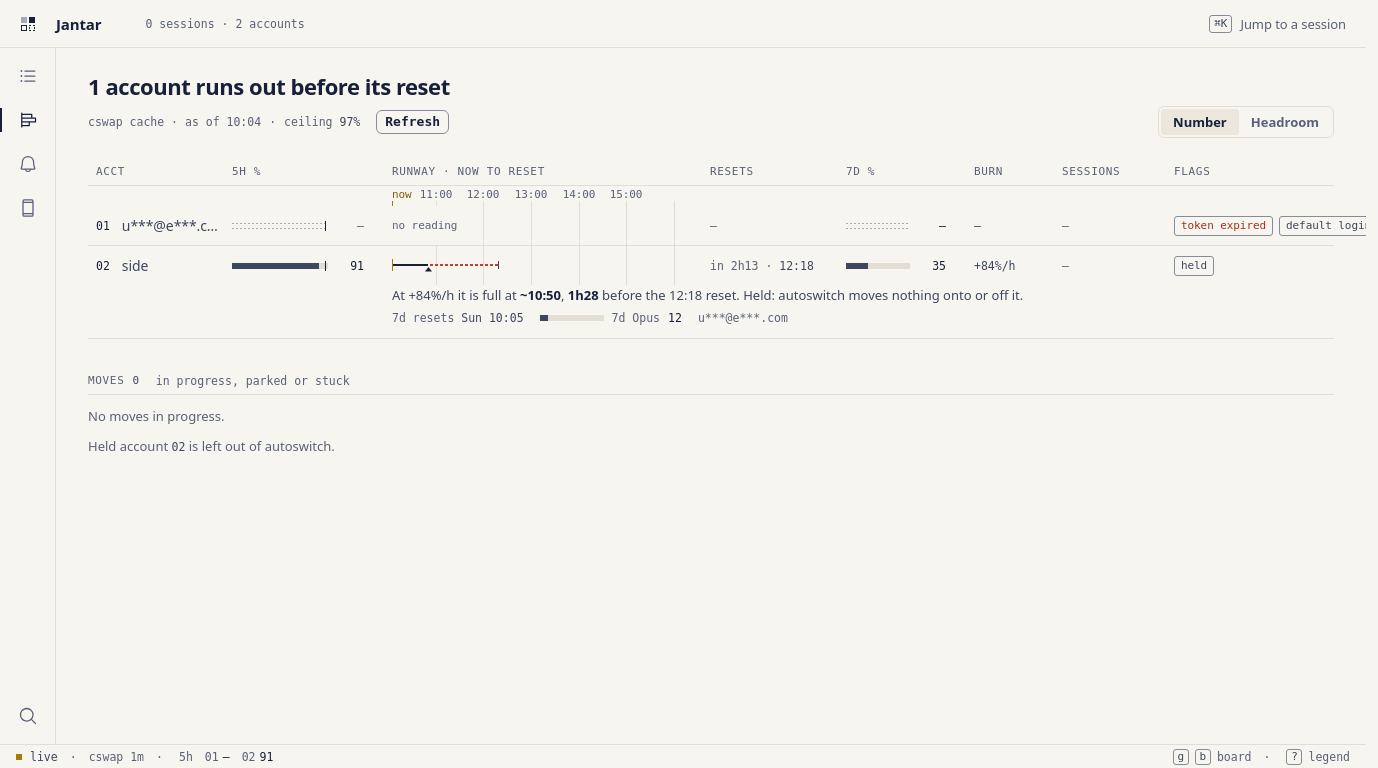
Test: accounts screen (phone) › asks for a usage refresh and shows a failure inline
The width and height of the screenshot is (1378, 768).
Step 1. Click the button "Refresh" → [413, 122], box [376,110,449,134]
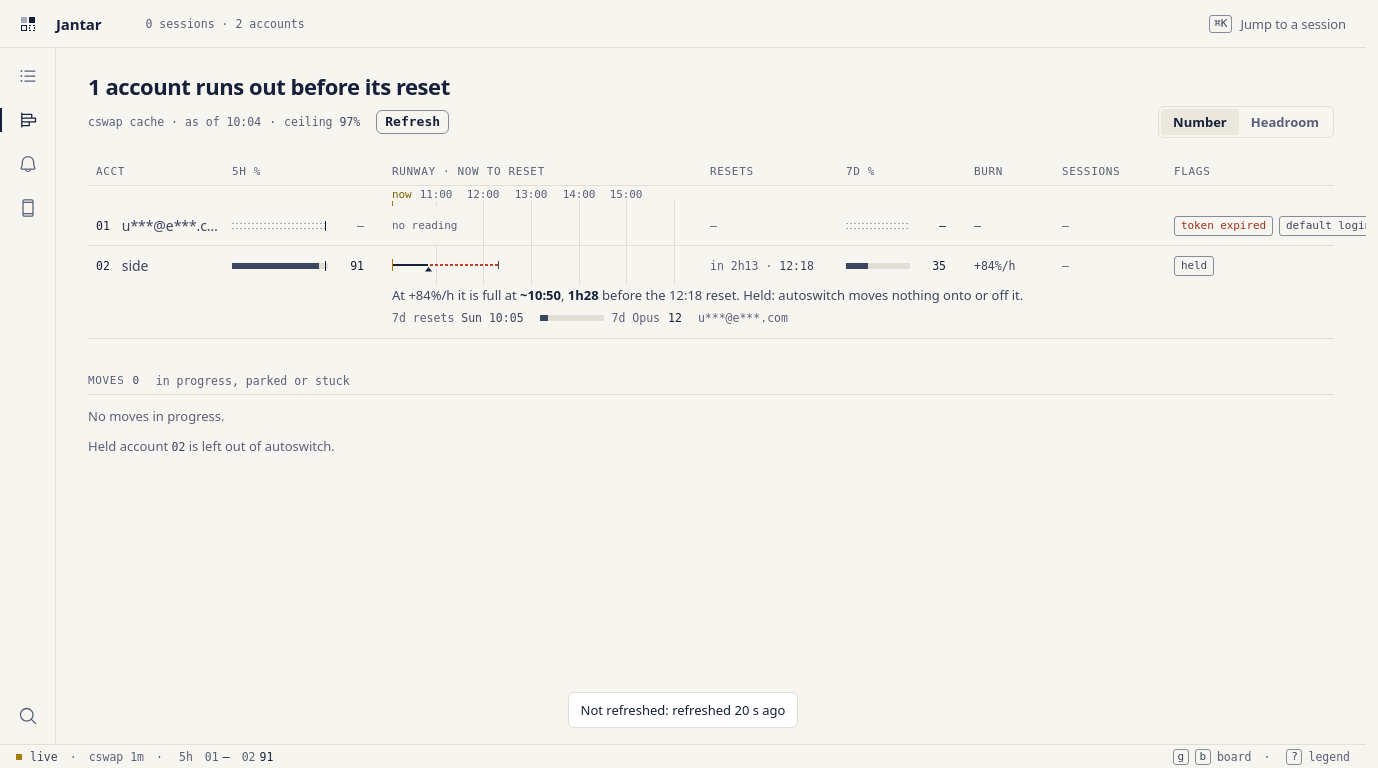
Check: the button "Not refreshed: refreshed 20 s ago" is shown, box [568,692,798,728]
Step 2. Click the button "Refresh" → [413, 122], box [376,110,449,134]
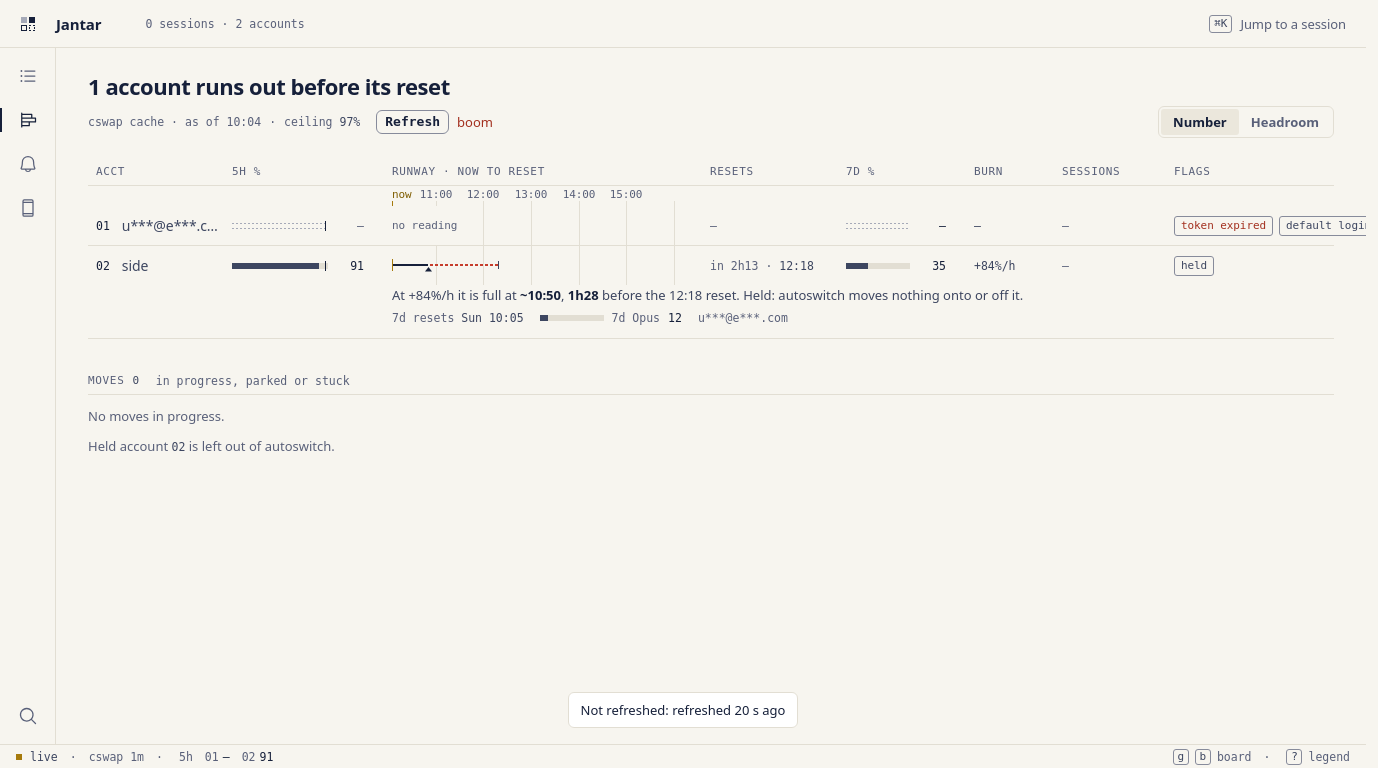
Check: the message "boom" is shown, box [457,113,493,131]
